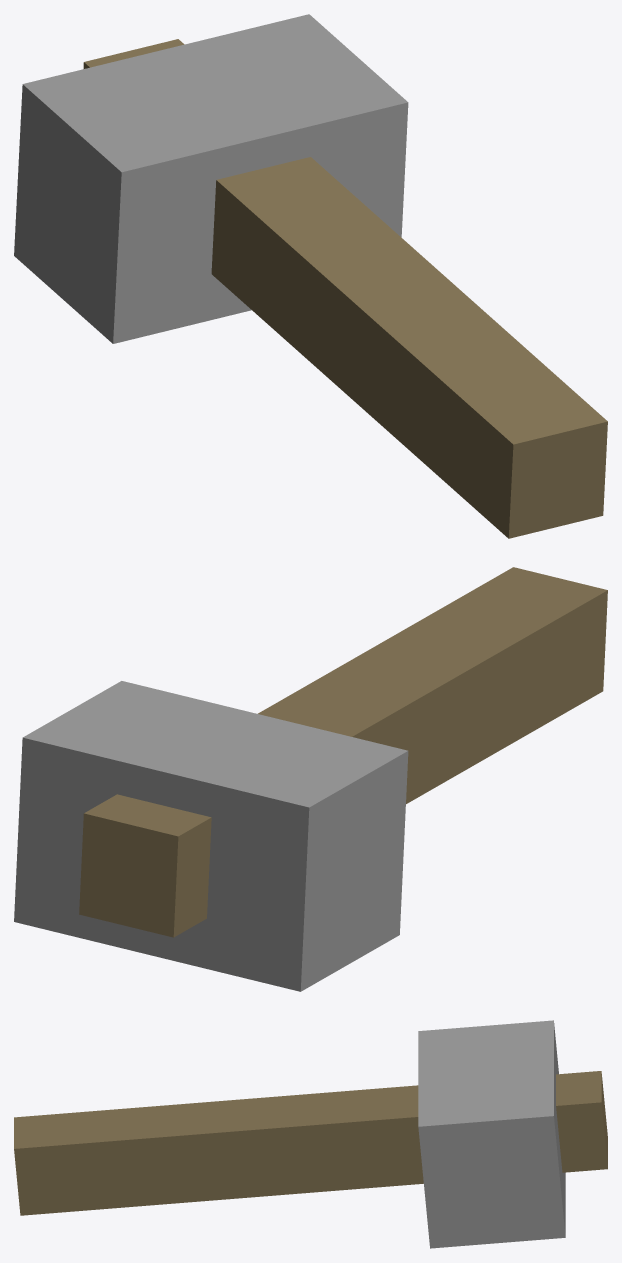
File: Hammer 01.FBX
3 views of the same model, one above another, from view 1: azimuth 30°, elevation 25°; view 2: azimuth 150°, elevation 25°; view 3: azimuth 270°, elevation 25° (orthographic). The views are drawn at different scales.
Parts seen in each view (by area): view 1: Hammer 01; view 2: Hammer 01; view 3: Hammer 01.
Part boxes in pixels (<box>): Hammer 01: <box>14,14,607,538</box>; Hammer 01: <box>14,567,607,991</box>; Hammer 01: <box>14,1020,607,1248</box>.
Size of the model in its own units: 30.21 by 19.51 by 79.27.
